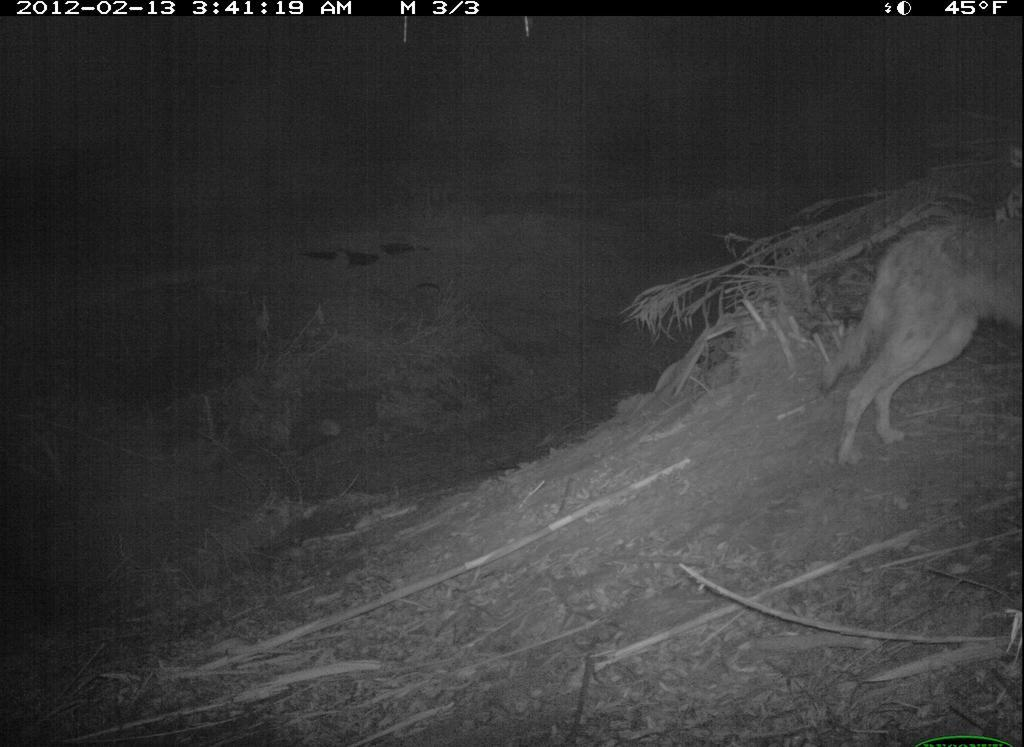coyote: (817, 182, 1016, 469)
